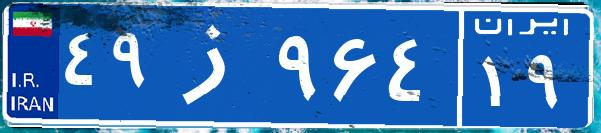1: (475, 38, 525, 113)
4: (385, 28, 445, 110), (57, 26, 110, 107)
6: (330, 28, 385, 110)
9: (273, 28, 330, 110), (110, 28, 158, 105), (525, 38, 570, 115)
ز: (158, 15, 273, 115)
